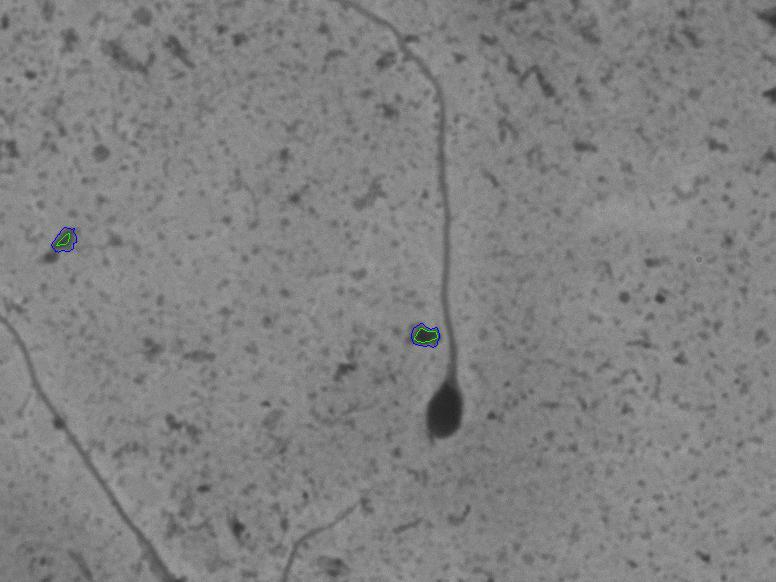Abnormal: (350, 6, 503, 453)
